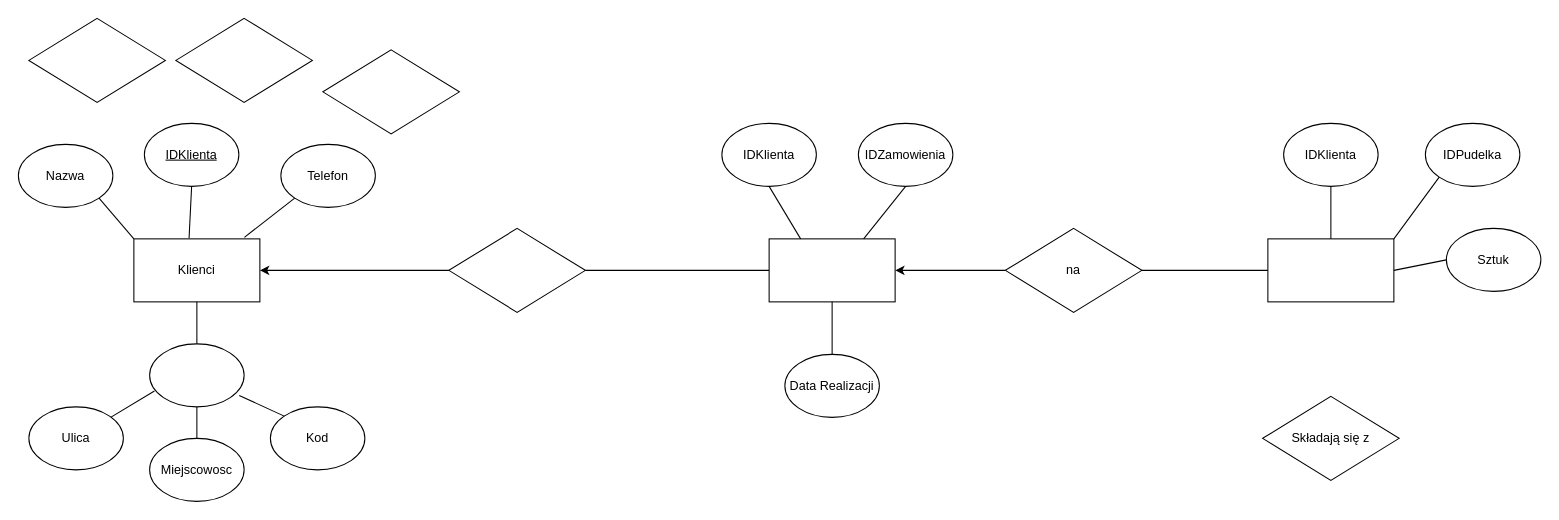
Some shapes in this 1559 by 520 pixel diagram are drawn without their labels. The shapes that lost their labels are listed below. From the top down, each one's box as (x1, y1, x2, y2) in pixels, then its label:
(448, 227, 585, 312): Składają
(768, 238, 895, 302): Zamówienia
(1267, 238, 1394, 302): Artykuly
(149, 343, 244, 407): Adres
